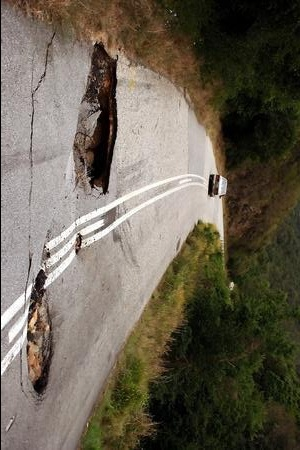pothole: (70, 38, 122, 198), (23, 268, 57, 402), (72, 229, 84, 258)
